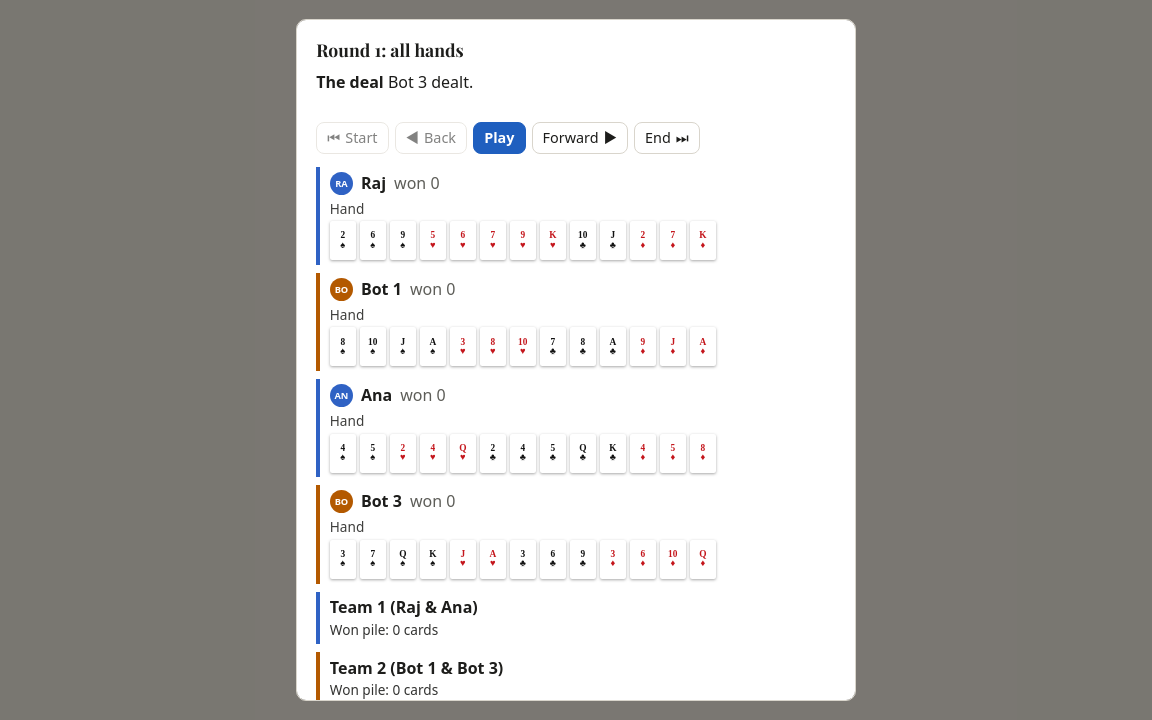
Scenario: ReplayDialog › steps through the moves, saying each one
The image size is (1152, 720).
Expected: the button "◀ Back" is disabled, [395,122,467,154]
Click the button "Forward ▶" at (580, 138), box [532,122,628,154]
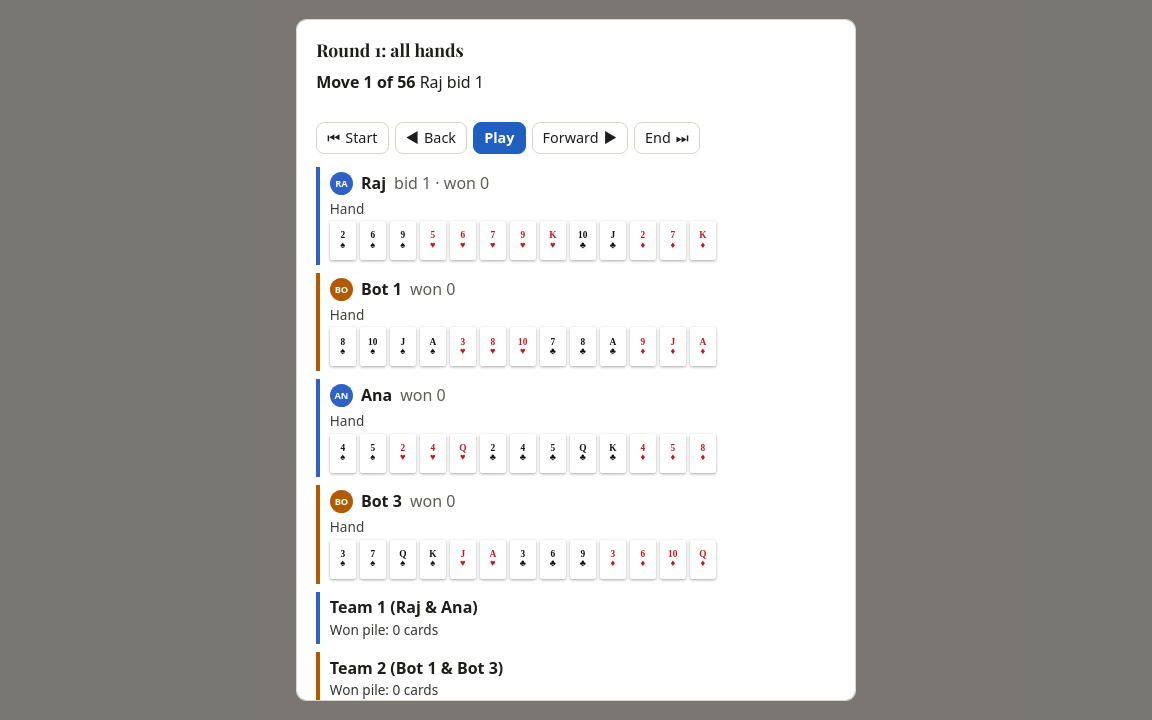
Click the button "End ⏭" at (667, 138), box [634,122,700,154]
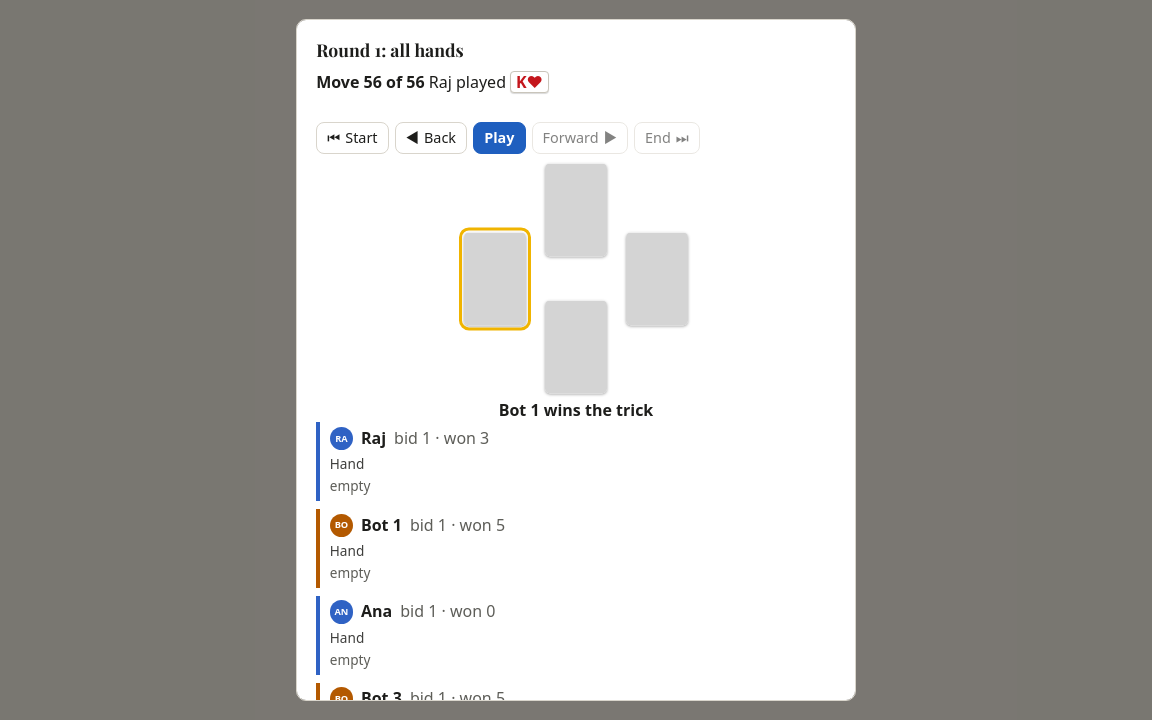
Expected: the button "Forward ▶" is disabled, [532,122,628,154]
Click the button "⏮ Start" at (352, 138), box [316,122,389,154]
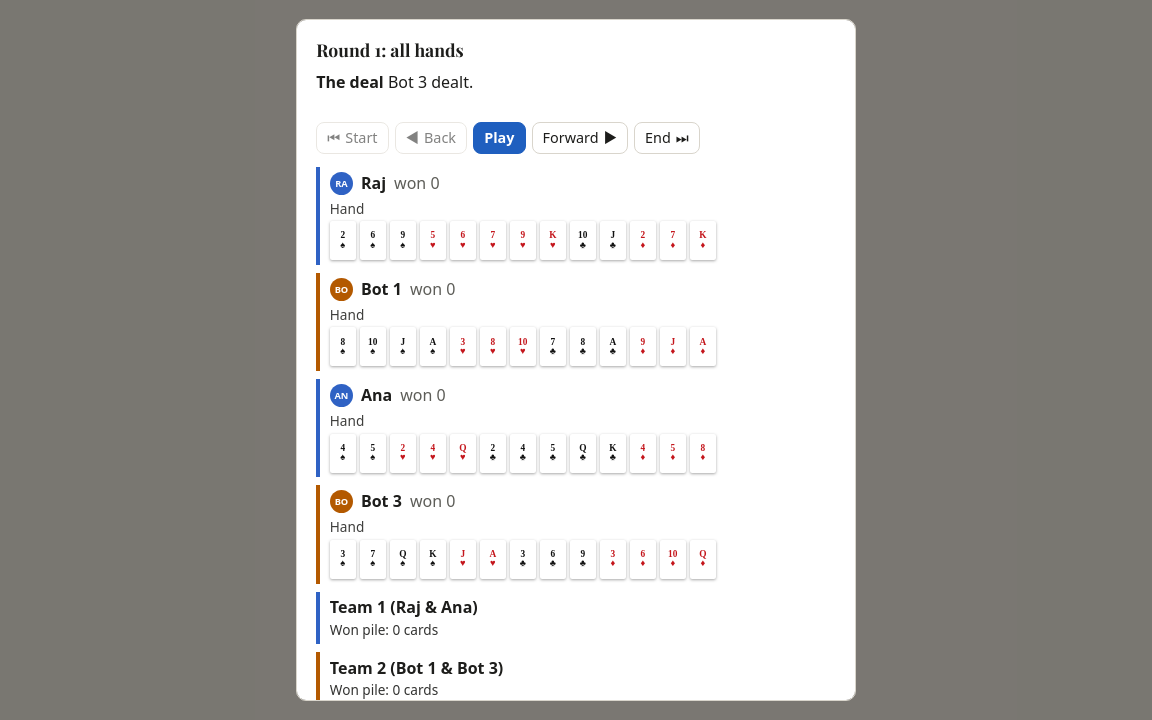
Expected: the element with class "replay-caption" shows "The deal", [316,71,384,93]
